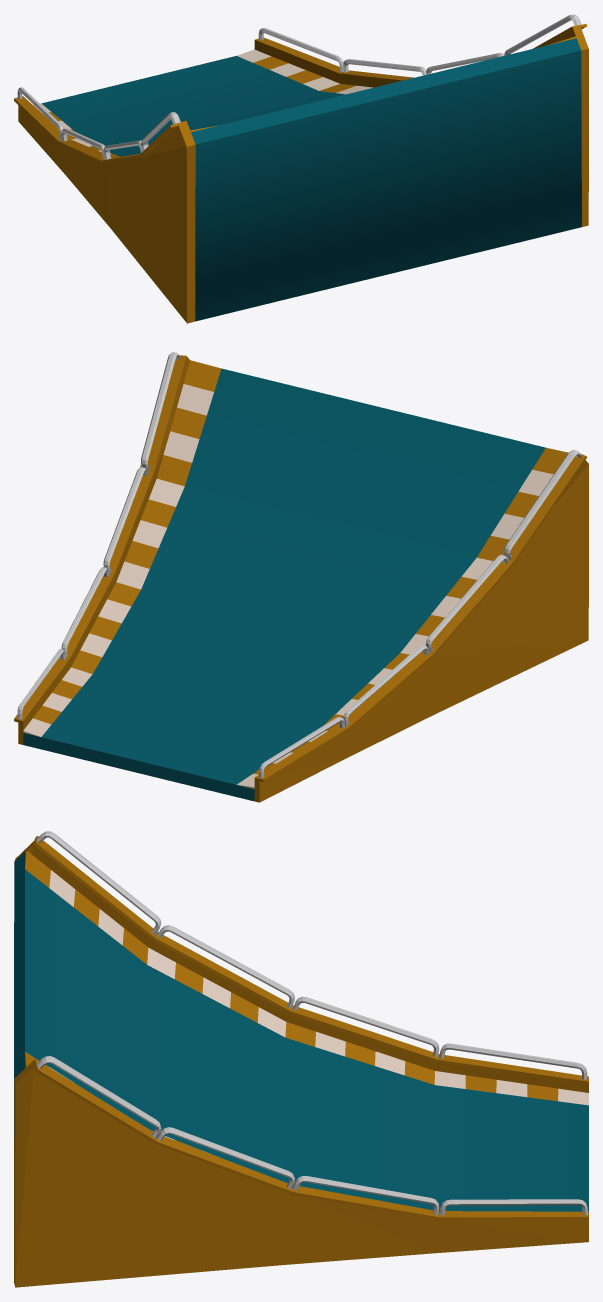
The model's file is ramp.FBX.
3 renders of one model, top to bottom at view 1: azimuth 30°, elevation 25°; view 2: azimuth 150°, elevation 25°; view 3: azimuth 270°, elevation 25°, orthographic. The views are drawn at different scales.
Parts seen in each view (by area): view 1: ramp, wall_r, wall_l, curbs_l; view 2: ramp, wall_r, curbs_l, wall_l, curbs_r; view 3: ramp, wall_l, wall_r, curbs_r.
Part boxes in pixels (bbox=[...]): ramp: bbox=[41, 38, 581, 321]; wall_r: bbox=[14, 87, 195, 323]; wall_l: bbox=[254, 14, 588, 226]; curbs_l: bbox=[236, 36, 576, 94]; ramp: bbox=[23, 368, 545, 801]; wall_r: bbox=[254, 449, 588, 802]; curbs_l: bbox=[23, 360, 221, 736]; wall_l: bbox=[14, 352, 189, 744]; curbs_r: bbox=[236, 447, 568, 788]; ramp: bbox=[14, 852, 588, 1211]; wall_l: bbox=[14, 1056, 588, 1287]; wall_r: bbox=[14, 831, 588, 1092]; curbs_r: bbox=[25, 850, 588, 1105].
Size of what is drawn, in the model's own units: 345 by 158 by 358.
